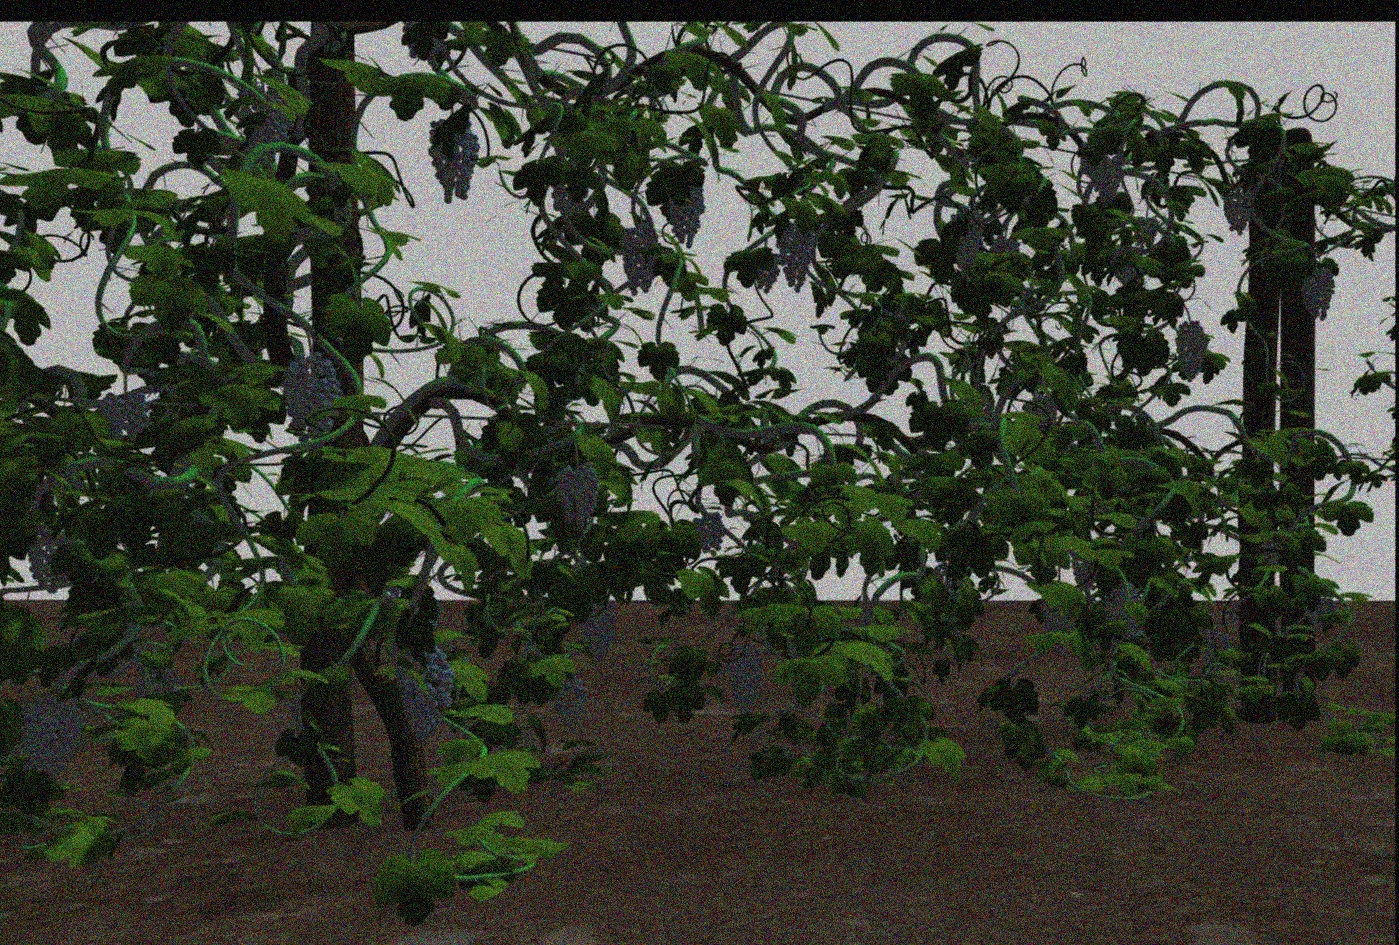grape: (18, 694, 86, 782), (392, 647, 454, 740), (283, 352, 342, 437), (426, 118, 482, 202), (774, 221, 818, 293), (575, 597, 619, 666), (555, 461, 600, 527), (28, 523, 72, 592), (96, 389, 150, 443), (620, 224, 659, 297), (725, 643, 764, 714), (666, 182, 707, 246), (1081, 152, 1124, 208), (947, 209, 986, 268), (1174, 319, 1209, 381), (1107, 583, 1144, 639), (552, 676, 589, 731), (1039, 596, 1076, 649), (1301, 265, 1334, 321), (1222, 185, 1254, 239), (689, 512, 728, 555), (1202, 629, 1231, 677), (1305, 596, 1337, 635)
